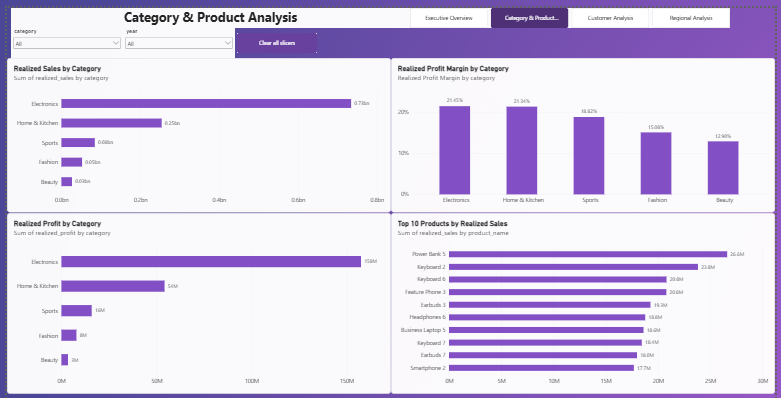

The dashboard page shown, as its layout file describes it:
{"tool":"powerbi","page":{"name":"Category & Product Analysis","canvas":[1920,1080],"ordinal":1},"visuals":[{"type":"textbox","box":[10,0,998,50],"z":0},{"type":"clusteredBarChart","title":"Realized Sales by Category","fields":{"Category":["sales_master.category"],"Y":["Sum(sales_master.realized_sales)"]},"box":[0,126,960,386],"z":1},{"type":"clusteredBarChart","title":"Realized Profit by Category","fields":{"Category":["sales_master.category"],"Y":["Sum(sales_master.realized_profit)"]},"box":[0,512,960,452],"z":2},{"type":"clusteredColumnChart","title":"Realized Profit Margin by Category","fields":{"Category":["sales_master.category"],"Y":["sales_master.Realized Profit Margin"]},"box":[960,126,960,386],"z":3},{"type":"clusteredBarChart","title":"Top 10 Products by Realized Sales","fields":{"Category":["sales_master.product_name"],"Y":["Sum(sales_master.realized_sales)"]},"box":[960,512,960,452],"z":4},{"type":"slicer","fields":{"Values":["sales_master.category"]},"box":[10,50,280,76],"z":5},{"type":"slicer","fields":{"Values":["sales_master.year"]},"box":[290,50,280,76],"z":6},{"type":"pageNavigator","box":[1008,0,800,50],"z":7},{"type":"actionButton","box":[576,62,200,50],"z":8}]}

Visuals, with their boxes on the page's 1920x1080 design canvas (x1, y1, x2, y2). These are canvas units, not pixel positions in the 781x398 screenshot, which may show the page scaled, cropped or inside an application window:
textbox: bbox=(10, 0, 1008, 50)
"Realized Sales by Category" clusteredBarChart: bbox=(0, 126, 960, 512)
"Realized Profit by Category" clusteredBarChart: bbox=(0, 512, 960, 964)
"Realized Profit Margin by Category" clusteredColumnChart: bbox=(960, 126, 1920, 512)
"Top 10 Products by Realized Sales" clusteredBarChart: bbox=(960, 512, 1920, 964)
slicer - sales_master.category: bbox=(10, 50, 290, 126)
slicer - sales_master.year: bbox=(290, 50, 570, 126)
pageNavigator: bbox=(1008, 0, 1808, 50)
actionButton: bbox=(576, 62, 776, 112)
